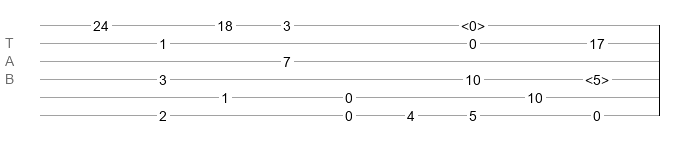0: (345, 108, 353, 118), (345, 90, 353, 100), (469, 36, 477, 46), (593, 108, 601, 118)
1: (159, 36, 167, 46), (221, 90, 229, 100)
10: (465, 72, 481, 82), (527, 90, 543, 100)
17: (589, 36, 605, 46)
18: (217, 18, 233, 28)
2: (159, 108, 167, 118)
24: (93, 18, 109, 28)
3: (159, 72, 167, 82), (283, 18, 291, 28)
4: (407, 108, 415, 118)
5: (469, 108, 477, 118)
7: (283, 54, 291, 64)
harmonic: (461, 18, 485, 28), (585, 72, 609, 82)
